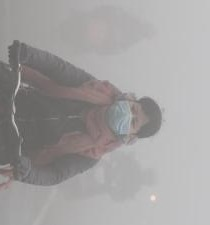person: (1, 39, 165, 191), (43, 6, 157, 55), (81, 152, 161, 198)
